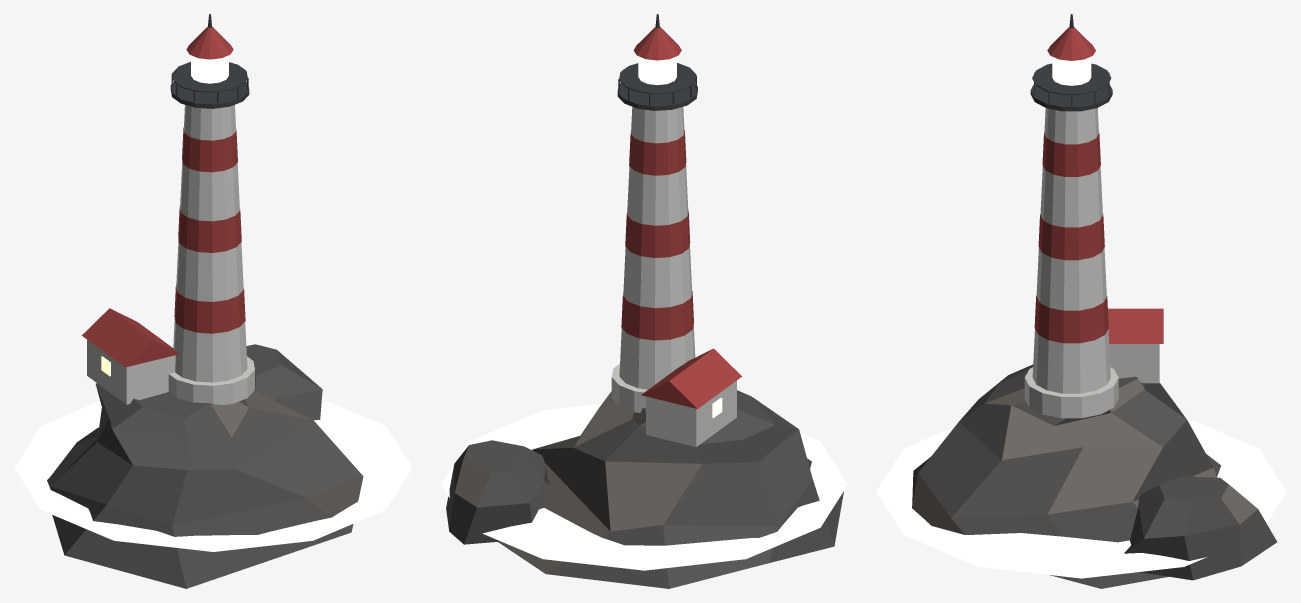
File: lighthouse.glb
3 renders of one model, left to right at view 1: azimuth 30°, elevation 25°; view 2: azimuth 150°, elevation 25°; view 3: azimuth 270°, elevation 25°, orthographic. The views are drawn at different scales.
Visible parts, largest first — view 1: lighthouse; view 2: lighthouse; view 3: lighthouse.
Boxes of the visible parts, <box> form: lighthouse: <box>14,14,412,588</box>; lighthouse: <box>441,14,847,588</box>; lighthouse: <box>876,14,1286,588</box>.
Bounding box in the file's own units: 21 × 28.92 × 21.
